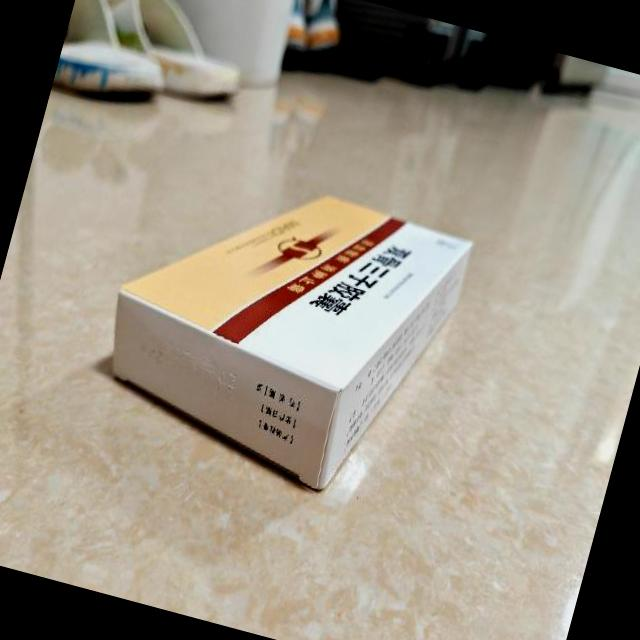box: (81, 148, 476, 512)
